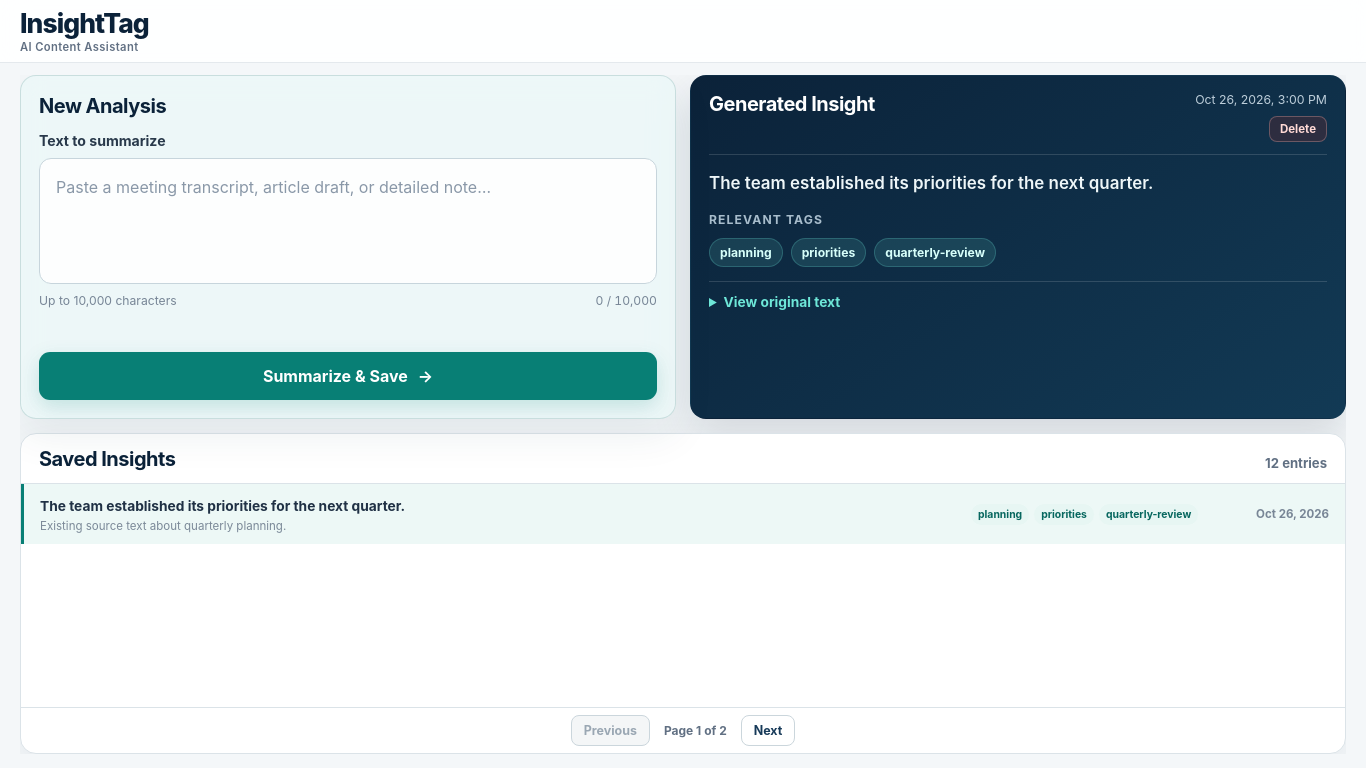
Test: InsightTag smoke flow › does not let a stale list response overwrite a post-create refresh
Expected: the text "The team established its priorities for the next quarter." below "Generated Insight" is shown, [709, 172, 1153, 192]
Expected: the heading "Generated Insight" is shown, [709, 92, 875, 116]
Click the button "Next".
click(768, 730)  # box [741, 715, 795, 746]
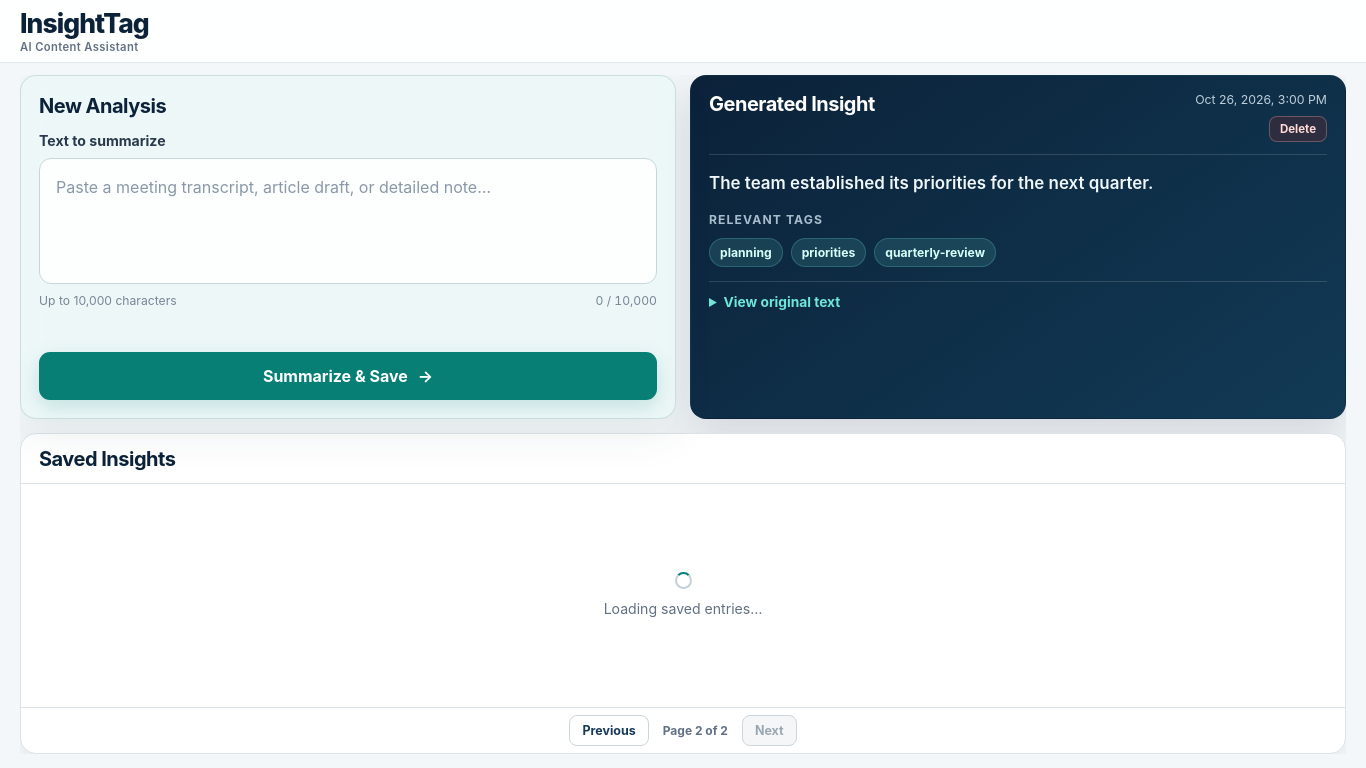
Type "A customer onboarding workflow update." into the text box labelled "Text to summarize".
click(348, 221); type("A customer onboarding workflow update.")  # box [39, 158, 657, 284]
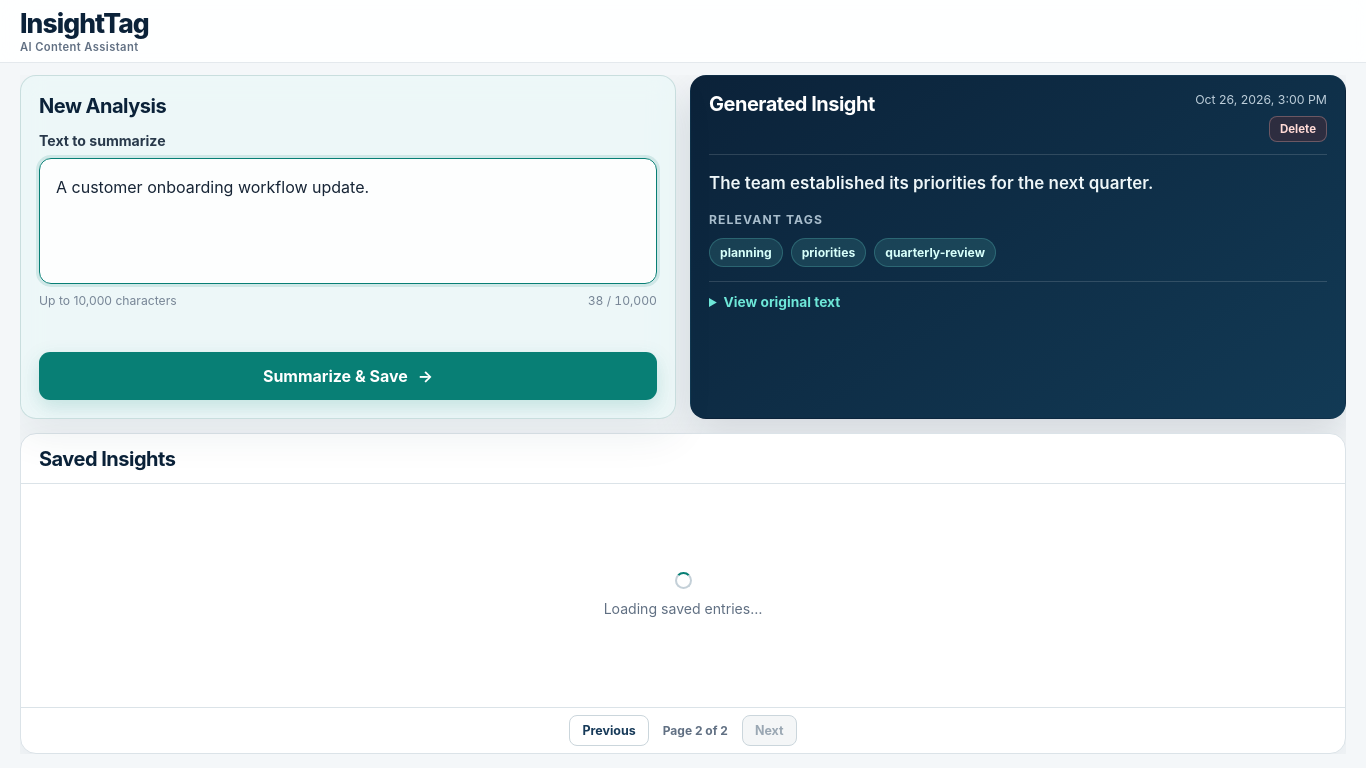
Click the button "Summarize & Save →".
click(348, 376)  # box [39, 352, 657, 400]
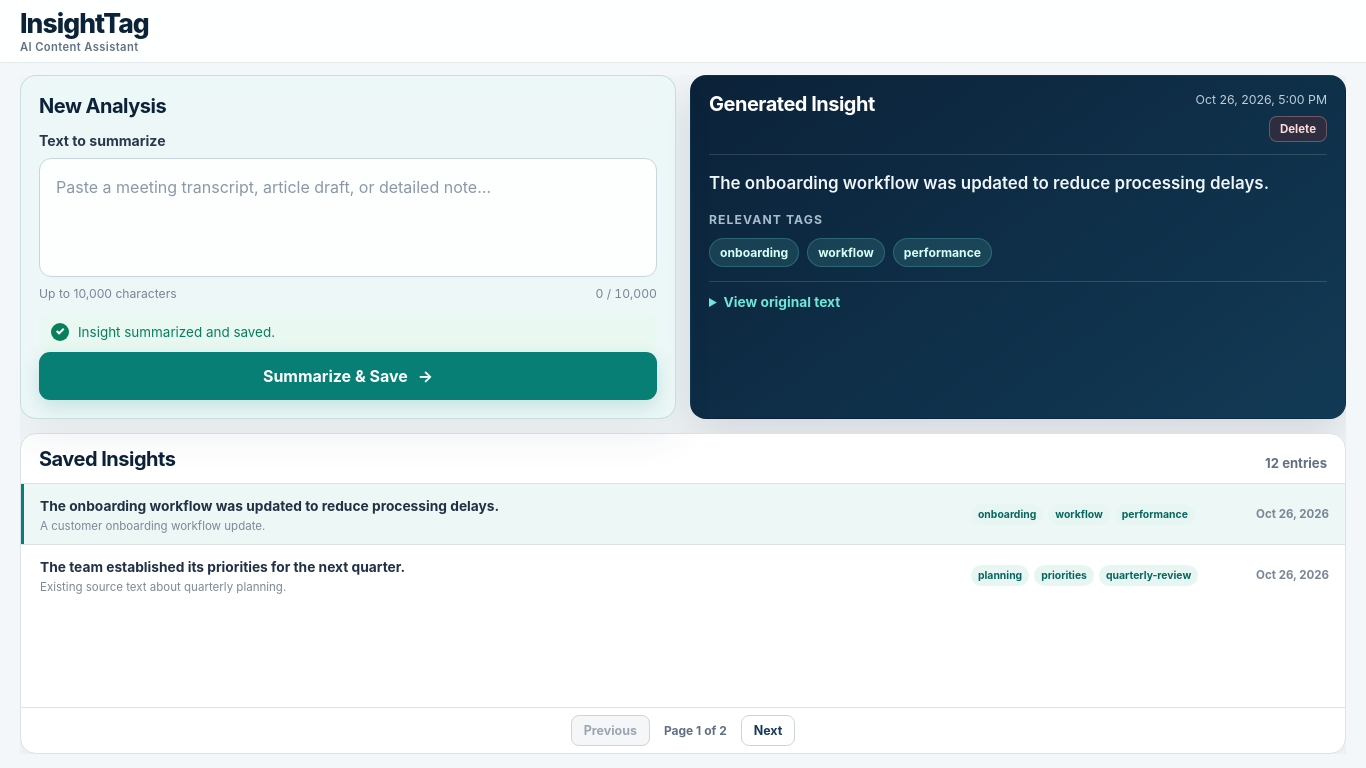
Now the text "Page 1 of 2" is shown, box [664, 723, 727, 738]
Now the button "The onboarding workflow was updated to reduce processing delays." is shown, box [21, 484, 1345, 544]
